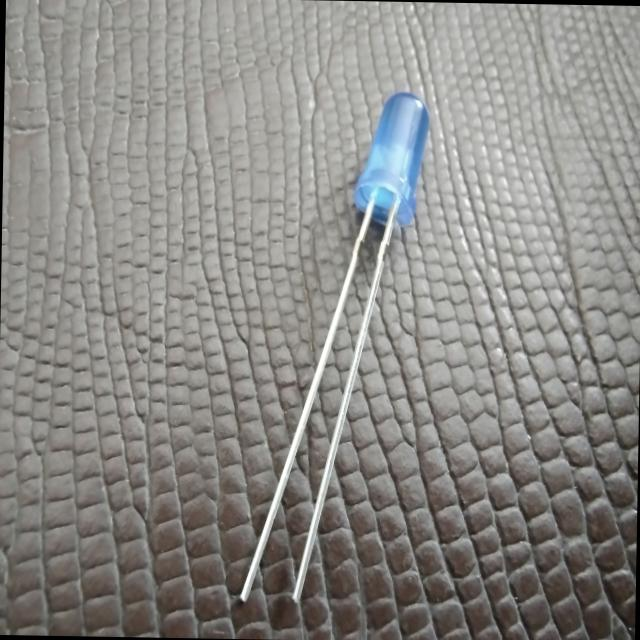blue_led: (352, 88, 431, 228)
